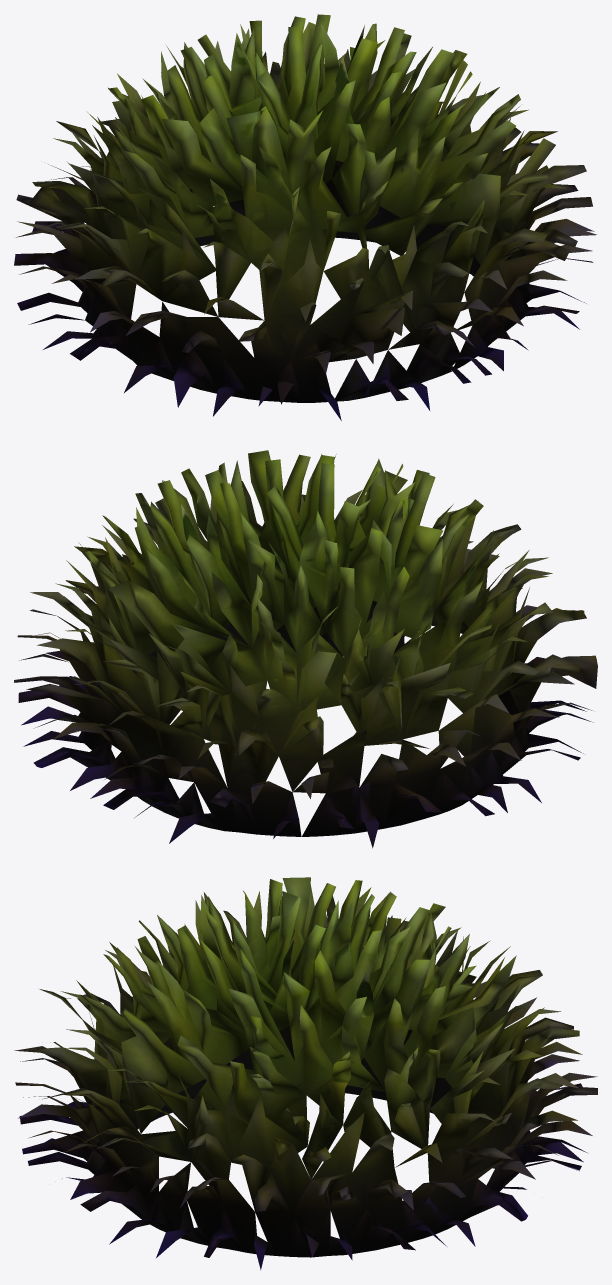
File: vegetation.short-grass-01.lod0.glb
3 views of the same model, one above another, from view 1: azimuth 30°, elevation 25°; view 2: azimuth 150°, elevation 25°; view 3: azimuth 270°, elevation 25° (orthographic).
Parts seen in each view (by area): view 1: vegetation.short-grass-01_LOD0_00; view 2: vegetation.short-grass-01_LOD0_00; view 3: vegetation.short-grass-01_LOD0_00.
Part boxes in pixels (box(x1,y1,x2,y2)): vegetation.short-grass-01_LOD0_00: box(14, 14, 596, 420); vegetation.short-grass-01_LOD0_00: box(14, 450, 597, 848); vegetation.short-grass-01_LOD0_00: box(14, 877, 597, 1270).
Size of the model in its own units: 0.5049 by 0.25 by 0.5049.
1 material, 1 textured.
